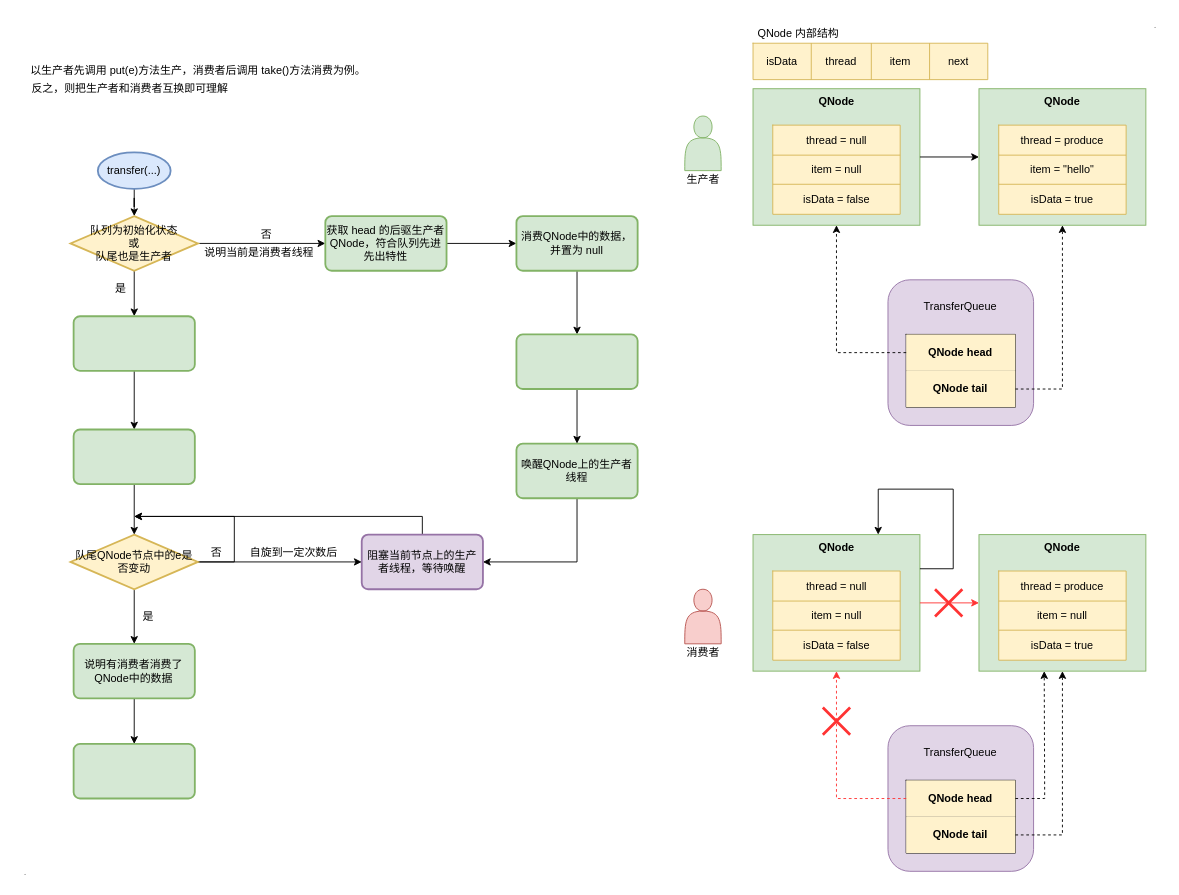
Image size: 1179x895. Some labels were removed from this diagram. Here are the shapes that lost their labels. From the top down, the box of each, then its label:
(72, 315, 195, 371): 将此生产者线程封装为QNode节点，存储 e、thread 等数据
(515, 333, 638, 389): 将此QNode设为头结点
(72, 428, 195, 485): 加入QNode同步队列队尾
(72, 743, 195, 799): 返回 e
